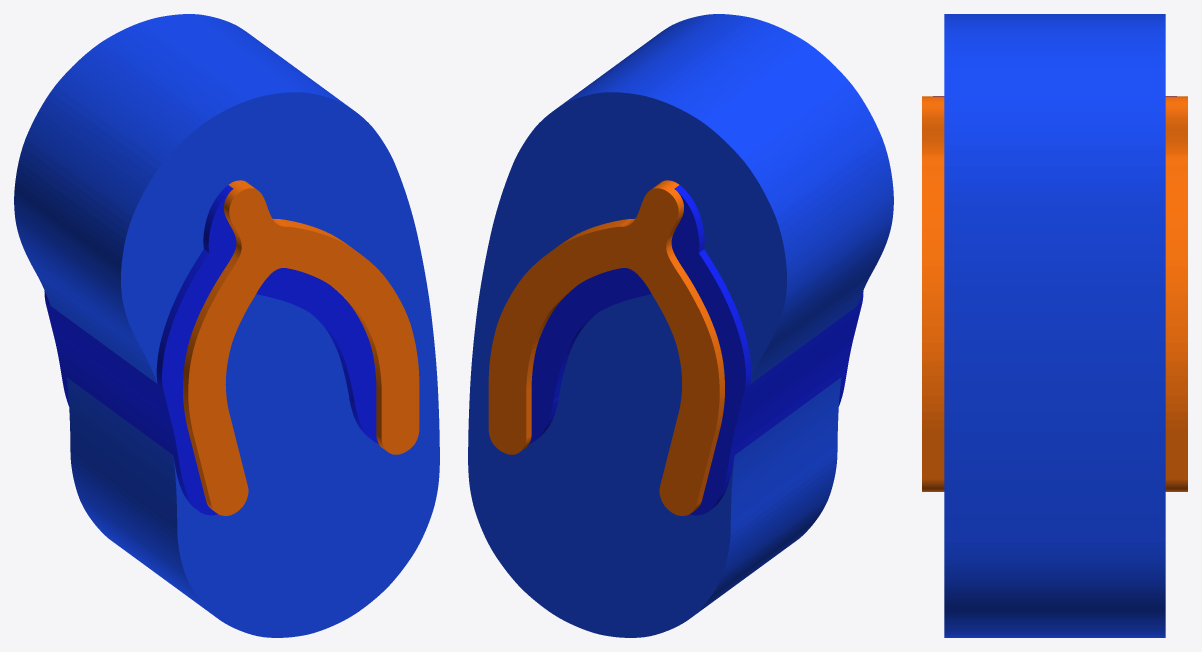
The picture shows the model from 3 angles, left to right: view 1: azimuth 30°, elevation 25°; view 2: azimuth 150°, elevation 25°; view 3: azimuth 270°, elevation 25°; orthographic projection. The views are drawn at different scales.
Parts seen in each view (by area): view 1: U+1FA74_layer00_obj00, U+1FA74_layer02_obj00, U+1FA74_layer01_obj00; view 2: U+1FA74_layer00_obj00, U+1FA74_layer02_obj00, U+1FA74_layer01_obj00; view 3: U+1FA74_layer00_obj00, U+1FA74_layer02_obj00.
Boxes of the visible parts, left/top/right/bottom form: U+1FA74_layer00_obj00: left=14, top=14, right=439, bottom=637; U+1FA74_layer02_obj00: left=183, top=180, right=419, bottom=515; U+1FA74_layer01_obj00: left=44, top=185, right=379, bottom=515; U+1FA74_layer00_obj00: left=468, top=14, right=893, bottom=637; U+1FA74_layer02_obj00: left=488, top=180, right=724, bottom=515; U+1FA74_layer01_obj00: left=528, top=185, right=863, bottom=515; U+1FA74_layer00_obj00: left=944, top=14, right=1165, bottom=637; U+1FA74_layer02_obj00: left=922, top=96, right=1187, bottom=491.
Size of the model in its own units: 0.3449 by 0.5677 by 0.24.
